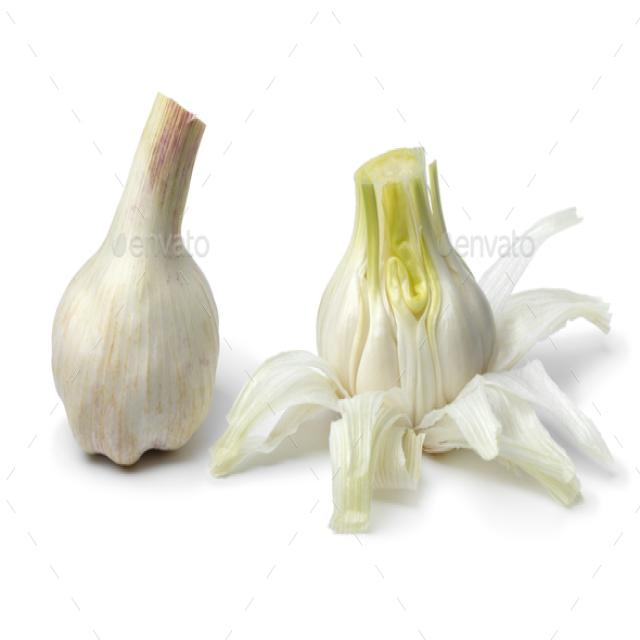garlic: (46, 225, 220, 472)
